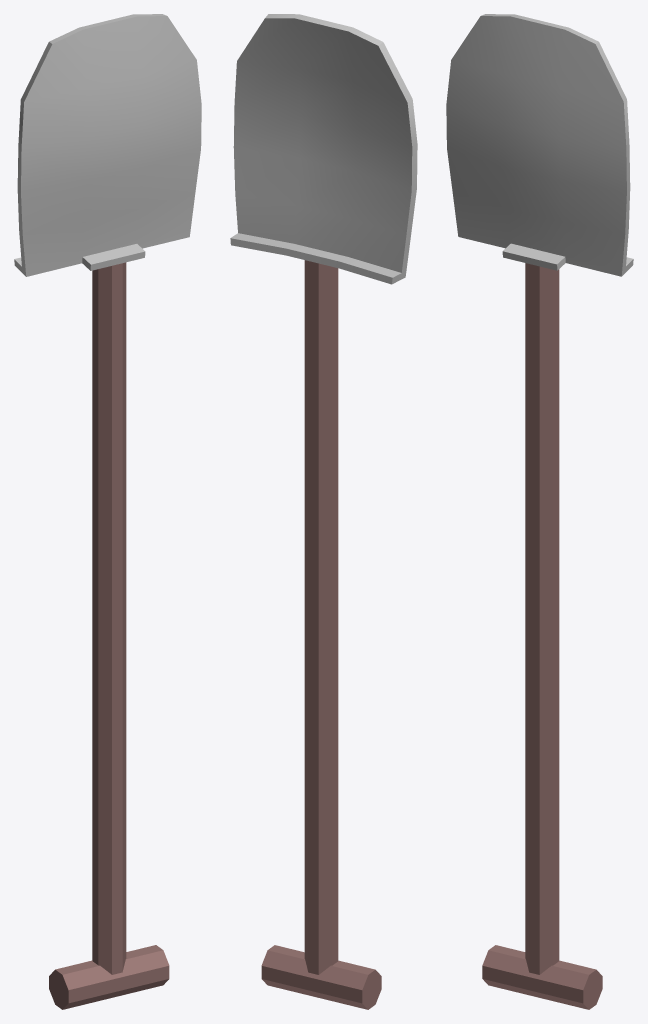
The model's file is Shovel.fbx.
3 renders of one model, left to right at view 1: azimuth 30°, elevation 25°; view 2: azimuth 150°, elevation 25°; view 3: azimuth 330°, elevation 25°, orthographic.
Visible parts, largest first — view 1: shovel; view 2: shovel; view 3: shovel.
Part boxes in pixels (x1,y1,x2,y2): shovel: (14,14,201,1009); shovel: (230,14,417,1009); shovel: (446,14,633,1009).
Size of the model in its own units: 25.16 by 130 by 5.52.
